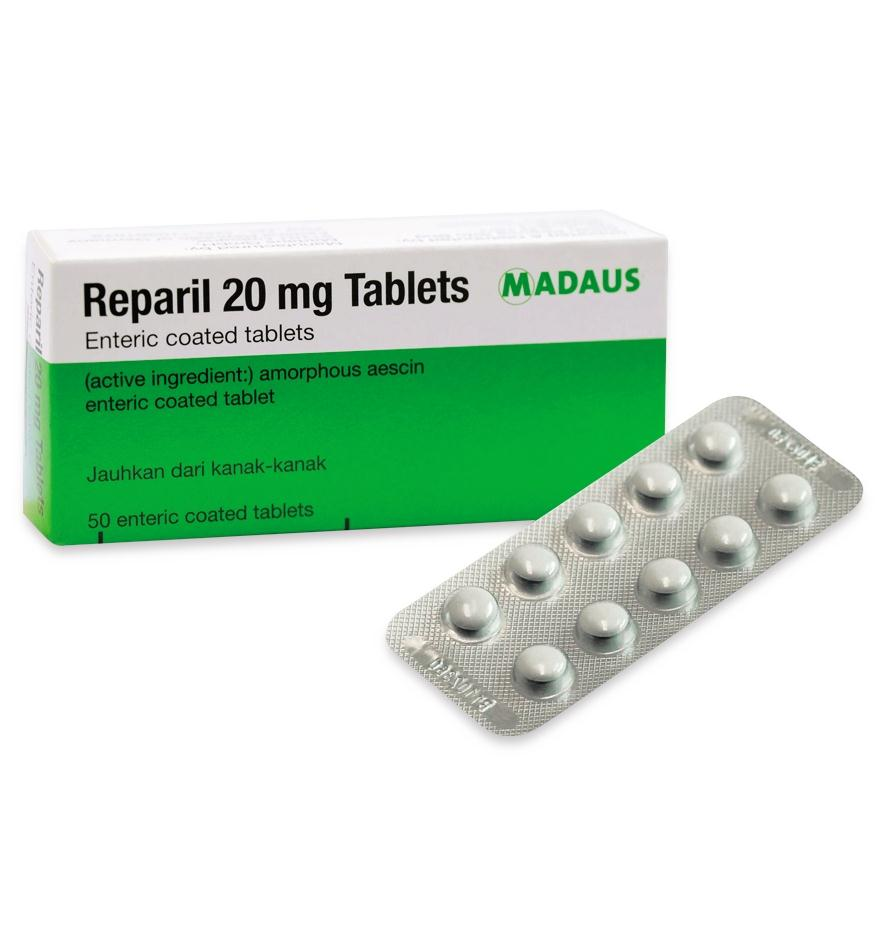Medicine: (23, 242, 678, 562)
